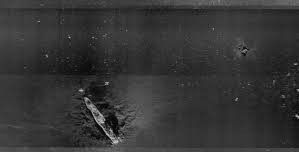ship: (81, 91, 122, 145)
